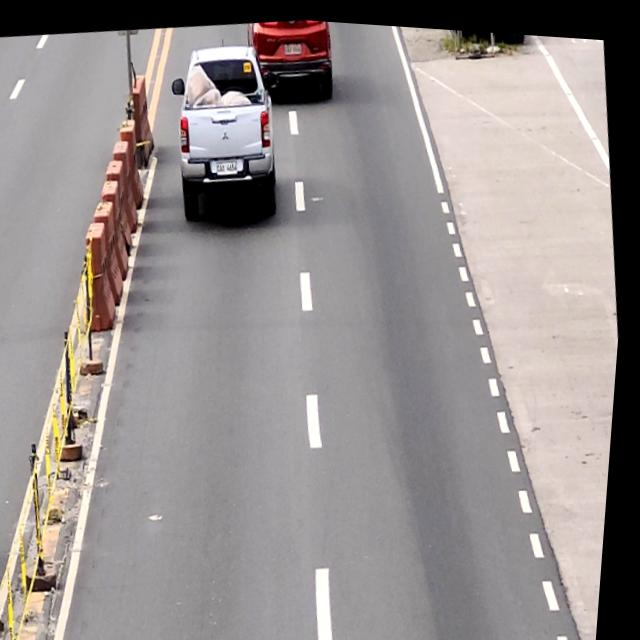Car: (161, 32, 296, 226), (240, 13, 339, 108)
License-Plate: (217, 154, 241, 173), (282, 37, 305, 52)
